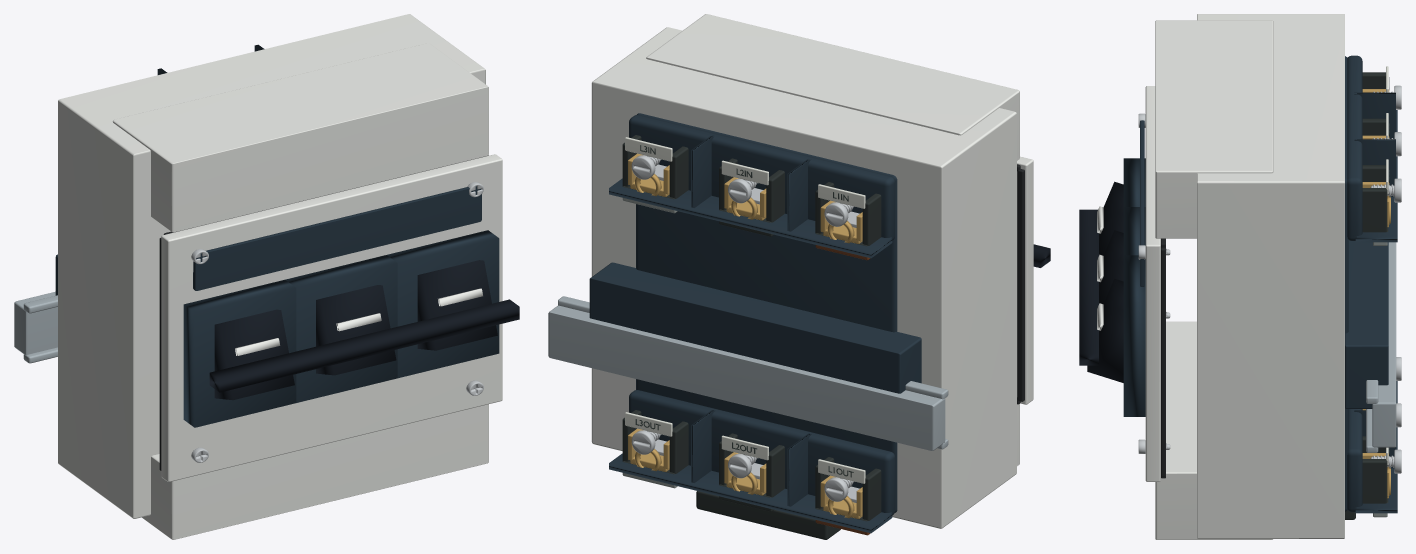
File: mcb3_default.glb
3 views of the same model, side by side, from view 1: azimuth 30°, elevation 25°; view 2: azimuth 150°, elevation 25°; view 3: azimuth 270°, elevation 25° (orthographic). The views are drawn at different scales.
Parts seen in each view (by area): view 1: part:body · Original 7dbee62c, part:cover, part:actuator.001, part:actuator, part:actuator.003, part:actuator.002, motion:toggle, motion:toggle.002, motion:toggle.001, part:mounting · Original 2a8198d3, detail:enclosure-gasket-and-fixings · Detail zinc plated fix, detail:enclosure-gasket-and-fixings · Detail rubber gasket; view 2: part:body · Original 7dbee62c, part:terminals · Original a463fd81, part:mounting · Original 2a8198d3, part:body, part:cover, DIN spring slider, detail:enclosure-gasket-and-fixings · Detail rubber gasket, detail:terminal-clamp:L2IN · Detail moulded engineering poly, detail:terminal-clamp:L2OUT · Detail moulded engineering pol, detail:terminal-clamp:L3OUT · Detail moulded engineering pol, detail:terminal-clamp:L3IN · Detail moulded engineering poly, detail:terminal-clamp:L1IN · Detail moulded engineering poly (+19 smaller); view 3: part:body · Original 7dbee62c, part:terminals · Original a463fd81, part:body, part:cover, part:actuator.003, part:mounting · Original 2a8198d3, part:actuator, motion:toggle.002, detail:terminal-clamp:L3IN · Detail moulded engineering poly, motion:toggle.001, detail:terminal-clamp:L3OUT · Detail moulded engineering pol, motion:toggle (+6 smaller).
Boxes of the visible parts, x1,y1,x2,y2 form: part:body · Original 7dbee62c: (58, 14, 488, 539); part:cover: (161, 154, 502, 481); part:actuator.001: (183, 279, 296, 427); part:actuator: (209, 299, 519, 392); part:actuator.003: (387, 230, 499, 378); part:actuator.002: (285, 255, 397, 402); motion:toggle: (214, 309, 294, 400); motion:toggle.002: (417, 260, 497, 350); motion:toggle.001: (316, 285, 396, 375); part:mounting · Original 2a8198d3: (14, 291, 57, 363); detail:enclosure-gasket-and-fixings · Detail zinc plated fix: (191, 182, 483, 462); detail:enclosure-gasket-and-fixings · Detail rubber gasket: (159, 155, 488, 470); part:body · Original 7dbee62c: (591, 14, 1019, 528); part:terminals · Original a463fd81: (609, 113, 897, 533); part:mounting · Original 2a8198d3: (548, 296, 948, 450); part:body: (589, 262, 921, 393); part:cover: (1017, 156, 1033, 404); DIN spring slider: (696, 491, 840, 539); detail:enclosure-gasket-and-fixings · Detail rubber gasket: (1017, 164, 1024, 404); detail:terminal-clamp:L2IN · Detail moulded engineering poly: (719, 158, 784, 236); detail:terminal-clamp:L2OUT · Detail moulded engineering pol: (719, 433, 784, 511); detail:terminal-clamp:L3OUT · Detail moulded engineering pol: (622, 410, 688, 474); detail:terminal-clamp:L3IN · Detail moulded engineering poly: (622, 135, 688, 199); detail:terminal-clamp:L1IN · Detail moulded engineering poly: (815, 182, 881, 246); part:body · Original 7dbee62c: (1155, 14, 1344, 539); part:terminals · Original a463fd81: (1345, 55, 1397, 513); part:body: (1345, 240, 1388, 408); part:cover: (1140, 86, 1160, 481); part:actuator.003: (1123, 255, 1145, 416); part:mounting · Original 2a8198d3: (1366, 242, 1396, 452); part:actuator: (1079, 209, 1098, 365); motion:toggle.002: (1087, 278, 1123, 382); detail:terminal-clamp:L3IN · Detail moulded engineering poly: (1362, 165, 1388, 232); motion:toggle.001: (1097, 230, 1123, 304); detail:terminal-clamp:L3OUT · Detail moulded engineering pol: (1362, 436, 1388, 503); motion:toggle: (1097, 181, 1123, 255).
Size of the model in its own units: 0.9477 by 0.9369 by 0.6956.
